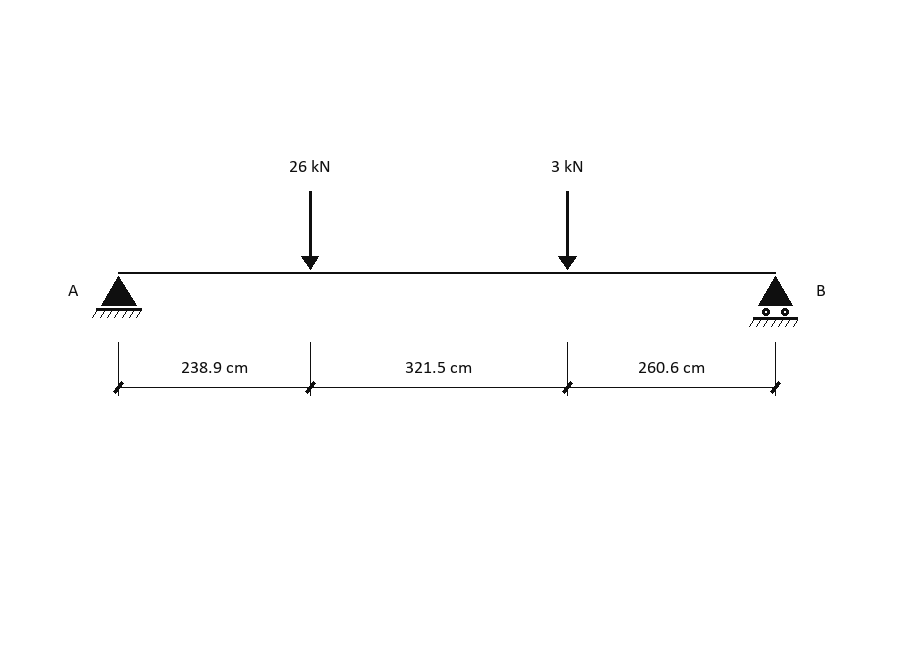pin_support: (92, 276, 142, 318)
point_load: (558, 191, 577, 270), (301, 191, 319, 270)
roller_support: (749, 276, 798, 327)
